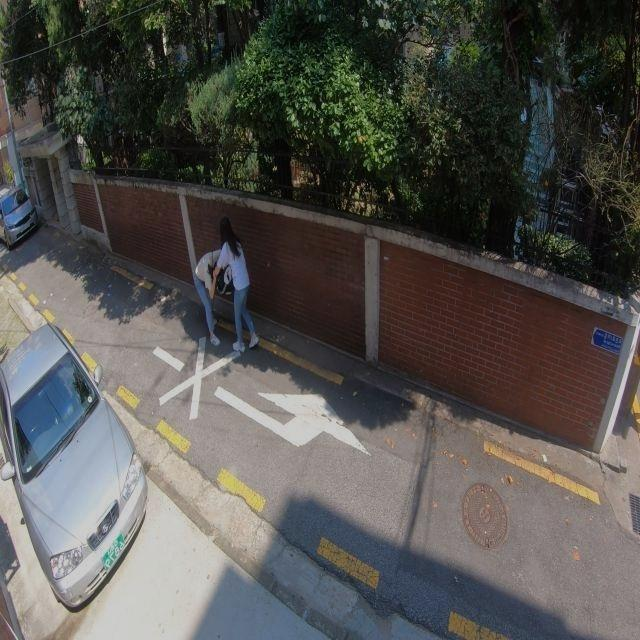fight: (193, 218, 260, 355)
